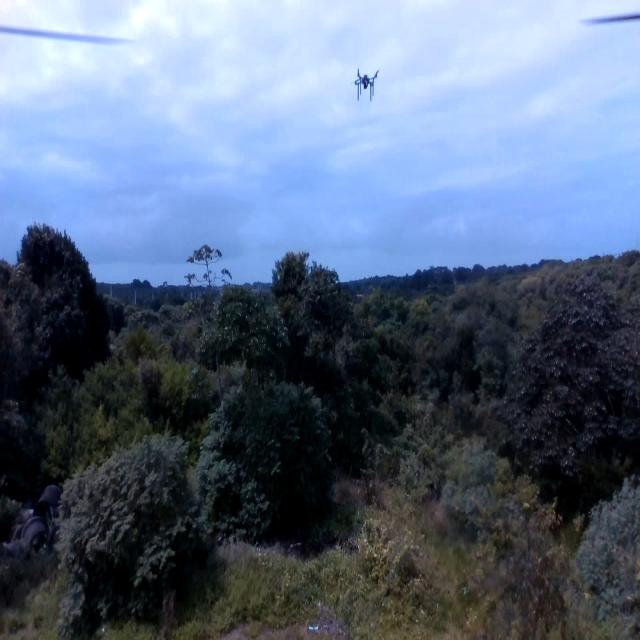-uav-: (349, 59, 383, 114)
